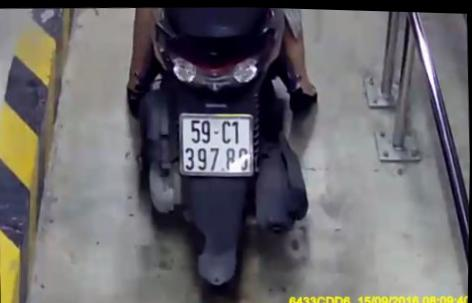LP: (177, 108, 255, 178)
